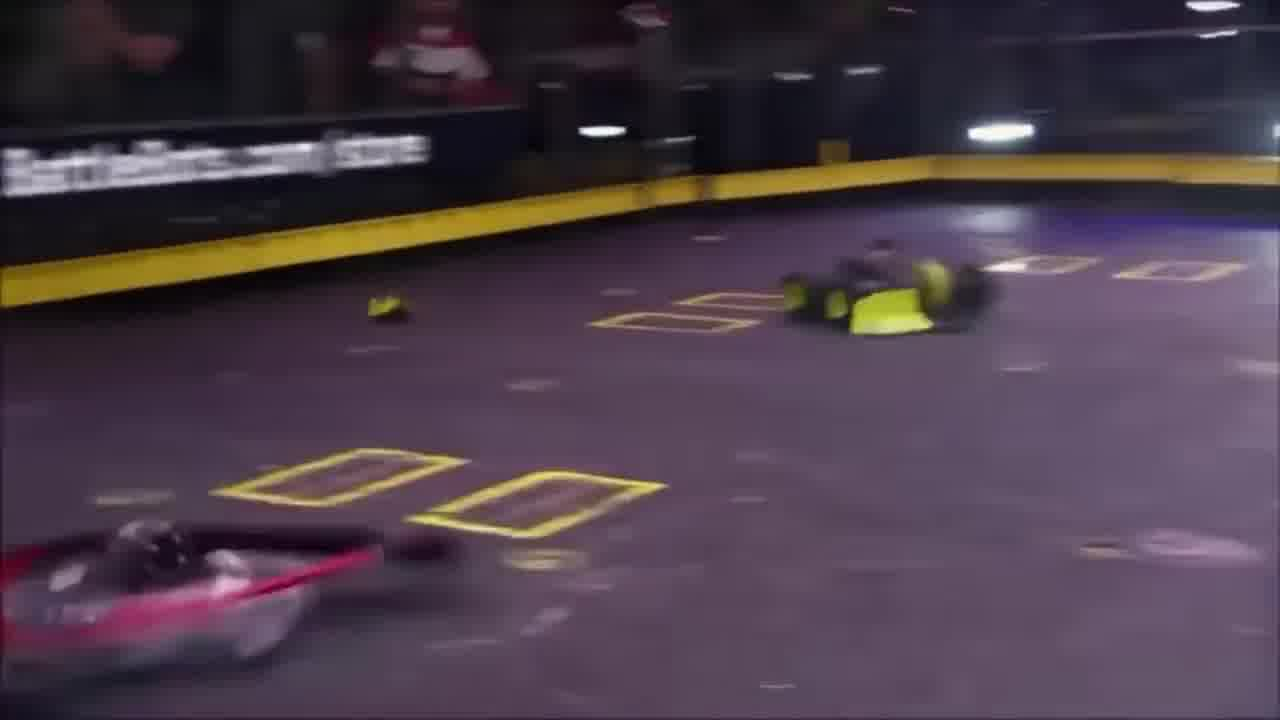combatbot: (3, 482, 471, 698), (777, 234, 1000, 341)
debris: (365, 290, 416, 325)
